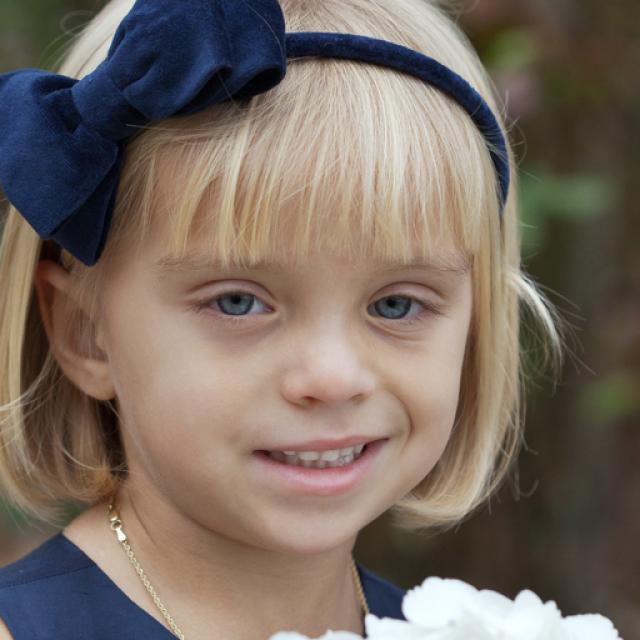content: (111, 143, 471, 552)
